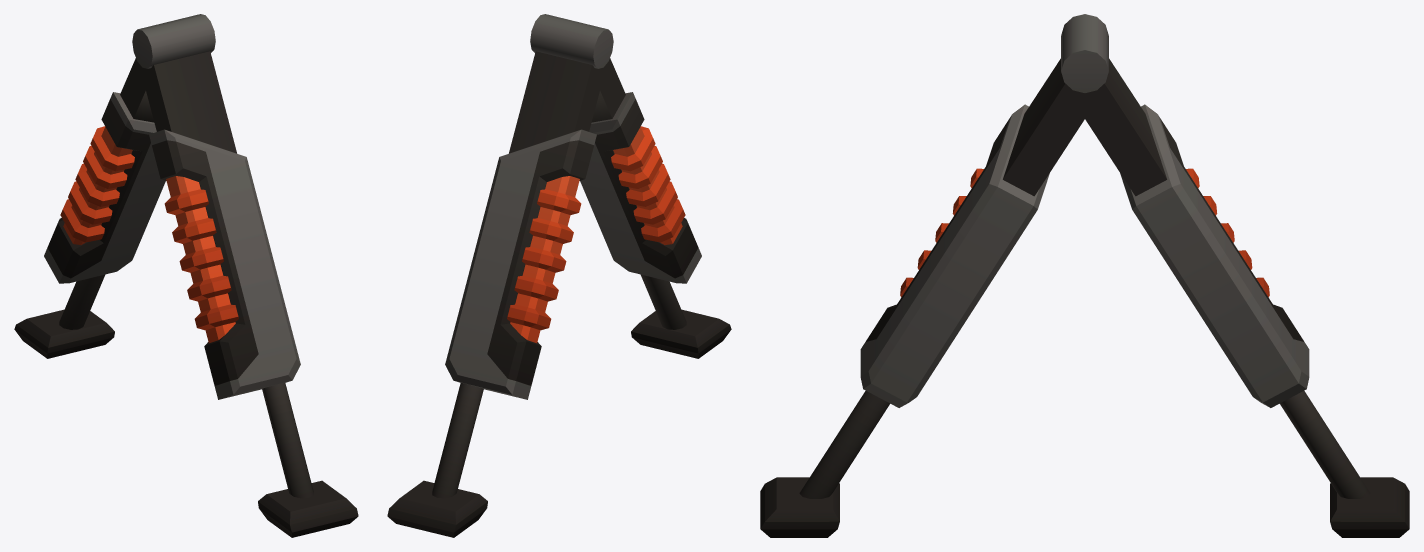
Rendered from SR6_Bipod.fbx.
3 renders of one model, left to right at view 1: azimuth 30°, elevation 25°; view 2: azimuth 150°, elevation 25°; view 3: azimuth 270°, elevation 25°, orthographic. The views are drawn at different scales.
Parts seen in each view (by area): view 1: SR6_Bipod; view 2: SR6_Bipod; view 3: SR6_Bipod.
Boxes of the visible parts, bbox=[...] form: SR6_Bipod: bbox=[14, 14, 358, 537]; SR6_Bipod: bbox=[387, 14, 731, 537]; SR6_Bipod: bbox=[760, 14, 1409, 537].
Size of the model in its own units: 5.75 by 26.6 by 32.45.
